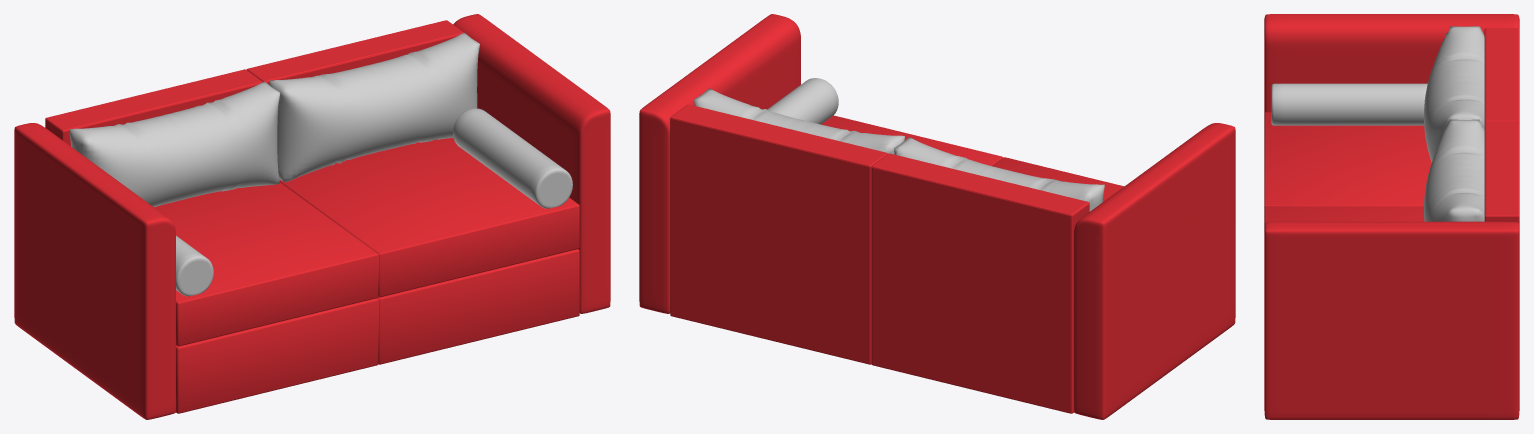
The model's file is sofa2.fbx.
The picture shows the model from 3 angles, left to right: view 1: azimuth 30°, elevation 25°; view 2: azimuth 150°, elevation 25°; view 3: azimuth 270°, elevation 25°; orthographic projection. The views are drawn at different scales.
Visible parts, largest first — view 1: Cube, Cube.005, Cube.002, Cube.001, Cube.006, Cylinder; view 2: Cube.006, Cube, Cube.002, Cube.005, Cylinder; view 3: Cube, Cube.005, Cube.002, Cube.006, Cylinder.
Part boxes in pixels (x1,y1,x2,y2): Cube: [14, 14, 610, 419]; Cube.005: [154, 137, 579, 346]; Cube.002: [69, 32, 479, 206]; Cube.001: [176, 249, 579, 413]; Cube.006: [45, 20, 463, 146]; Cylinder: [176, 108, 572, 296]; Cube.006: [670, 104, 1089, 413]; Cube: [639, 14, 1235, 419]; Cube.002: [694, 88, 1104, 211]; Cube.005: [821, 115, 1123, 201]; Cylinder: [767, 78, 838, 124]; Cube: [1264, 14, 1519, 419]; Cube.005: [1264, 112, 1431, 224]; Cube.002: [1424, 26, 1484, 221]; Cube.006: [1484, 28, 1519, 224]; Cylinder: [1271, 83, 1427, 125].
Size of the model in its own units: 2.2 by 1.09 by 0.94.
